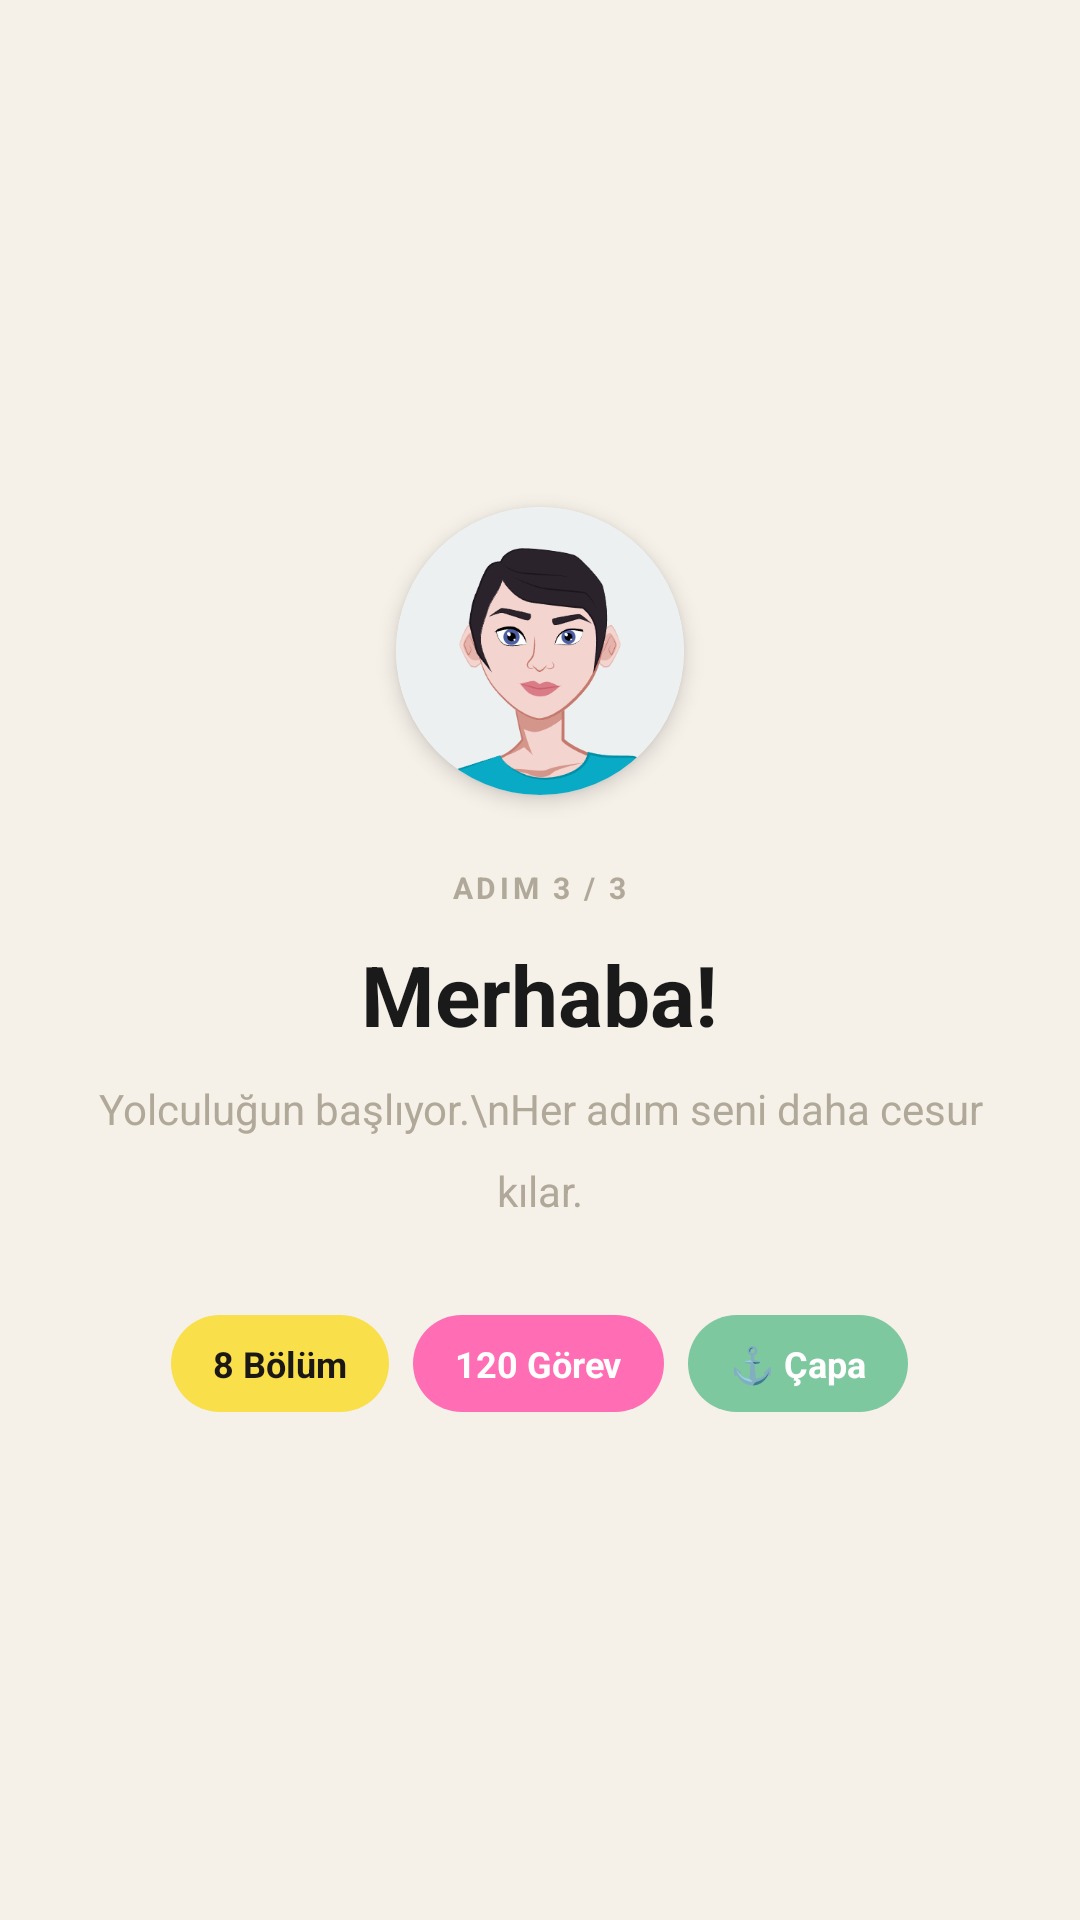

Named icons in this screenshot (1080×1920) and their centers, (x=x, y=y):
avatarmaker: (x=540, y=651)
